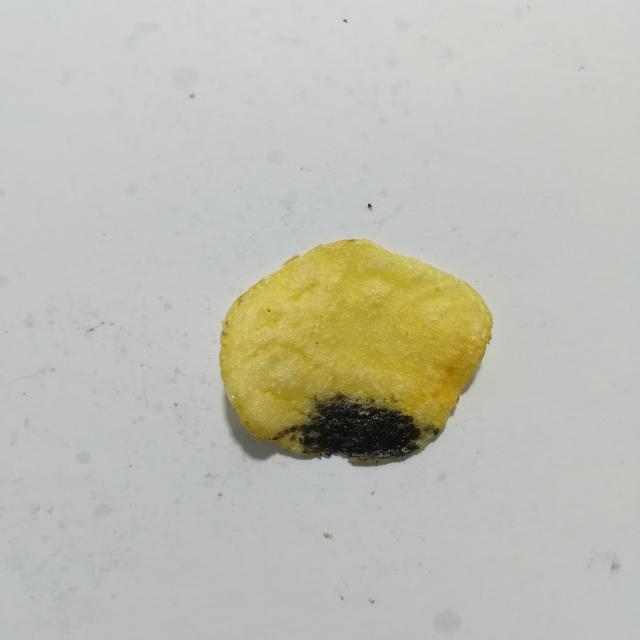chip: (219, 239, 492, 459)
damaged: (272, 394, 442, 462)
